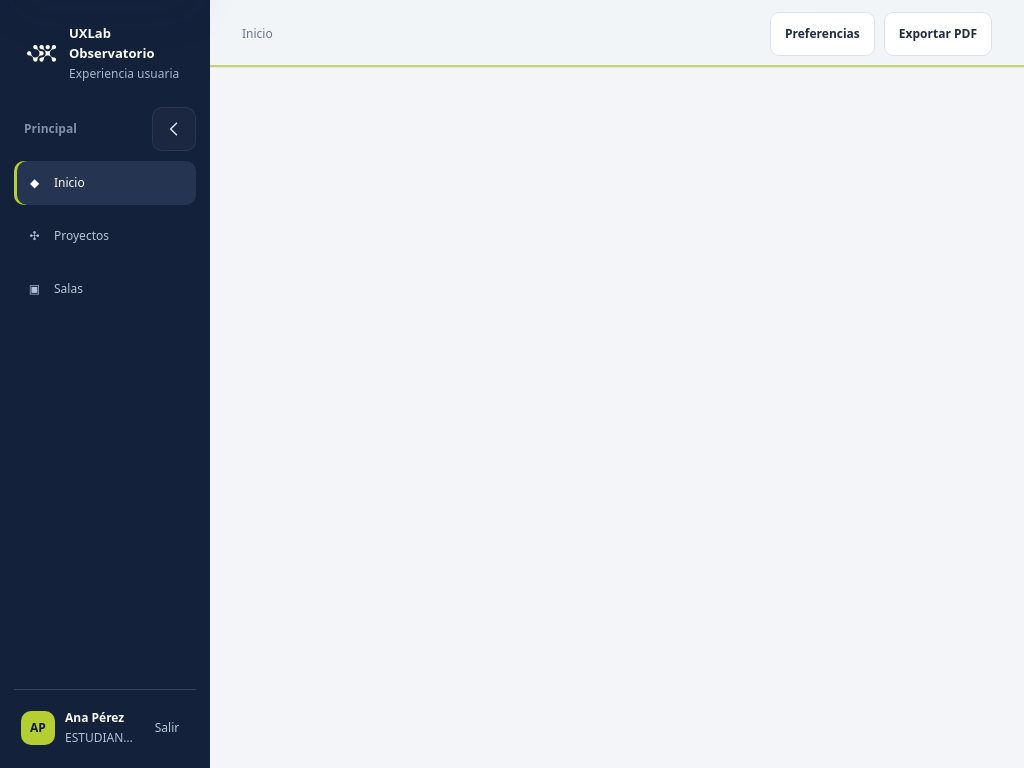
Scenario: Barra lateral › conserva las restricciones de acceso al minimizar
What coordinates should you click on to do the following:
click the button named "Minimizar barra lateral"
I would click on:
 (174, 129)
Its box is x1=152 y1=107 x2=196 y2=151.
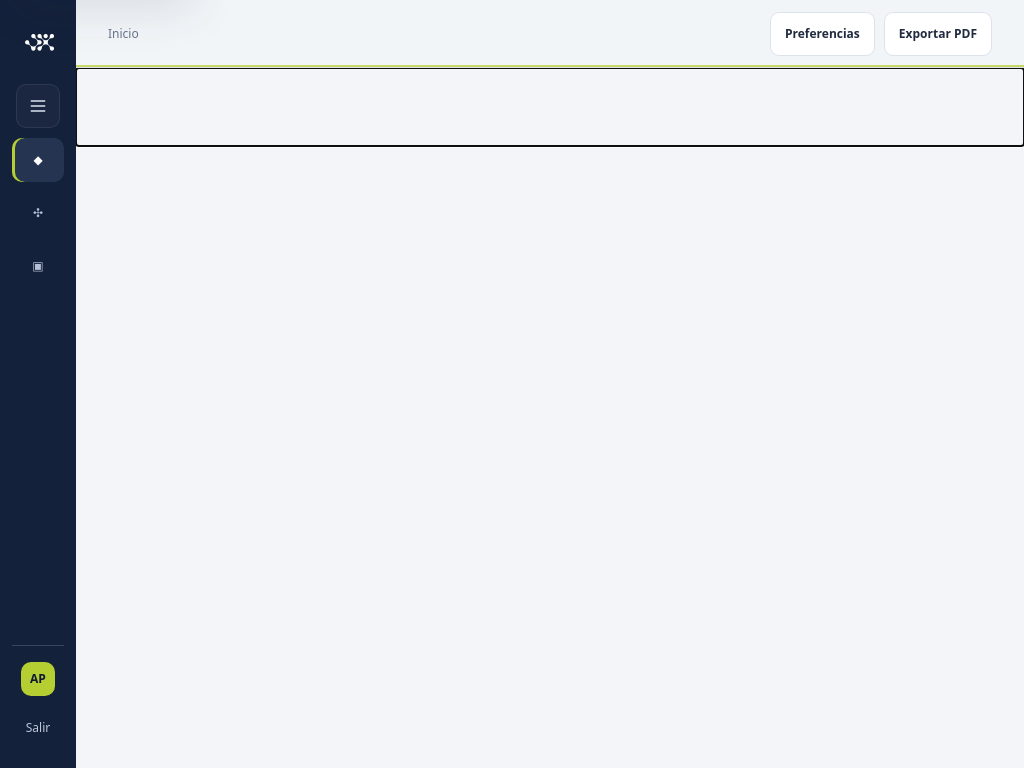
Check: the button named "Expandir barra lateral" is shown, box x1=16 y1=84 x2=60 y2=128
